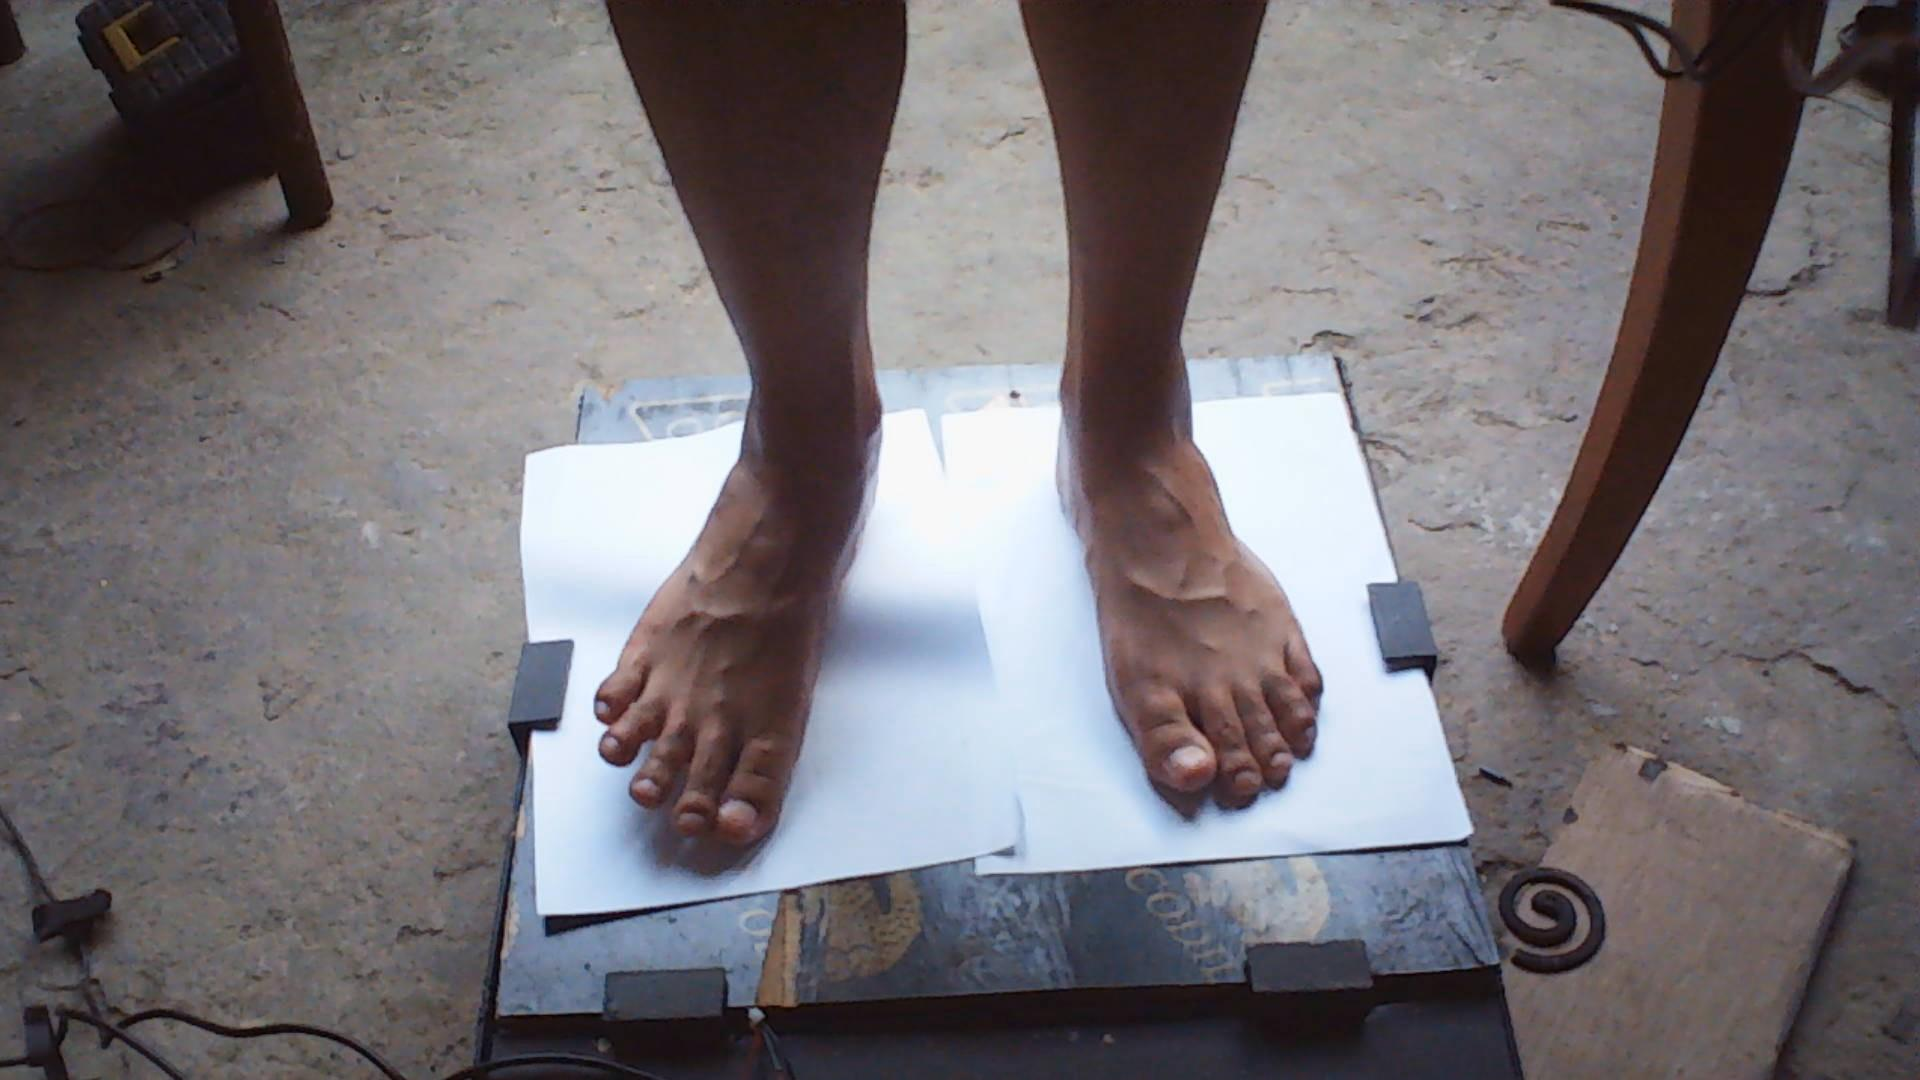Bare_feet: (574, 410, 898, 886), (1036, 393, 1352, 824)
